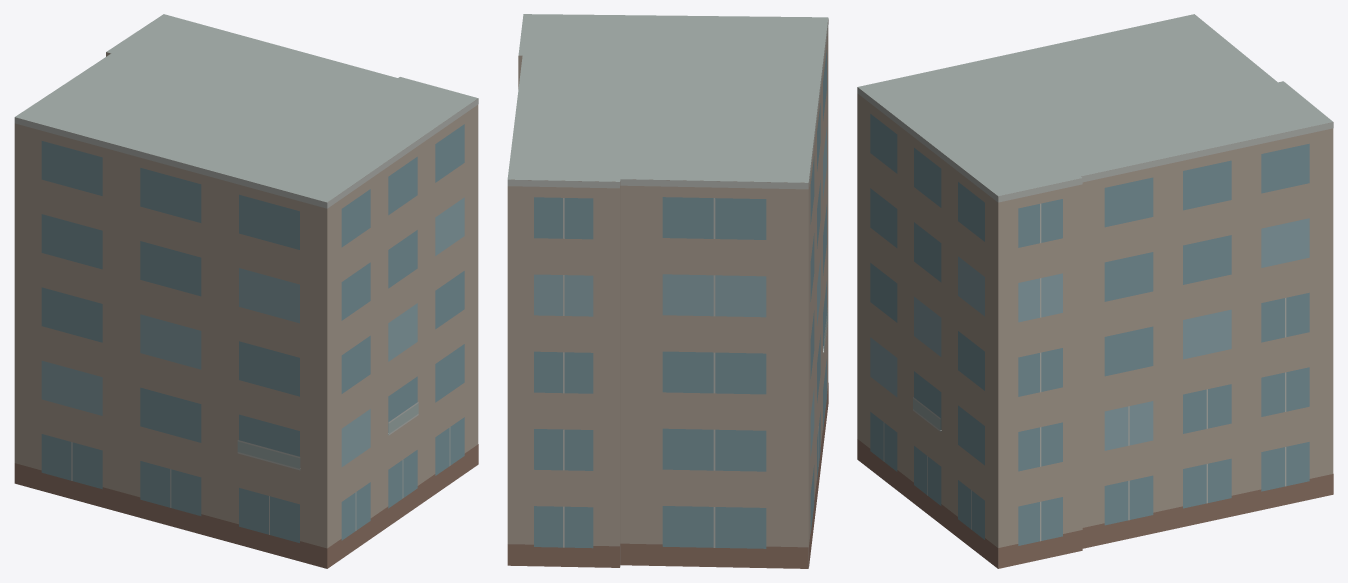
File: survey-upis-32748738.glb
3 views of the same model, side by side, from view 1: azimuth 30°, elevation 25°; view 2: azimuth 150°, elevation 25°; view 3: azimuth 270°, elevation 25° (orthographic). The views are drawn at different scales.
Parts seen in each view (by area): view 1: survey-upis-32748738.tmp; view 2: survey-upis-32748738.tmp; view 3: survey-upis-32748738.tmp.
Boxes of the visible parts, box(x1,y1,x2,y2) form: survey-upis-32748738.tmp: box(14, 14, 478, 568); survey-upis-32748738.tmp: box(507, 14, 828, 568); survey-upis-32748738.tmp: box(857, 14, 1333, 568).
Bounding box in the file's own units: 15.12 × 14.4 × 16.68.
